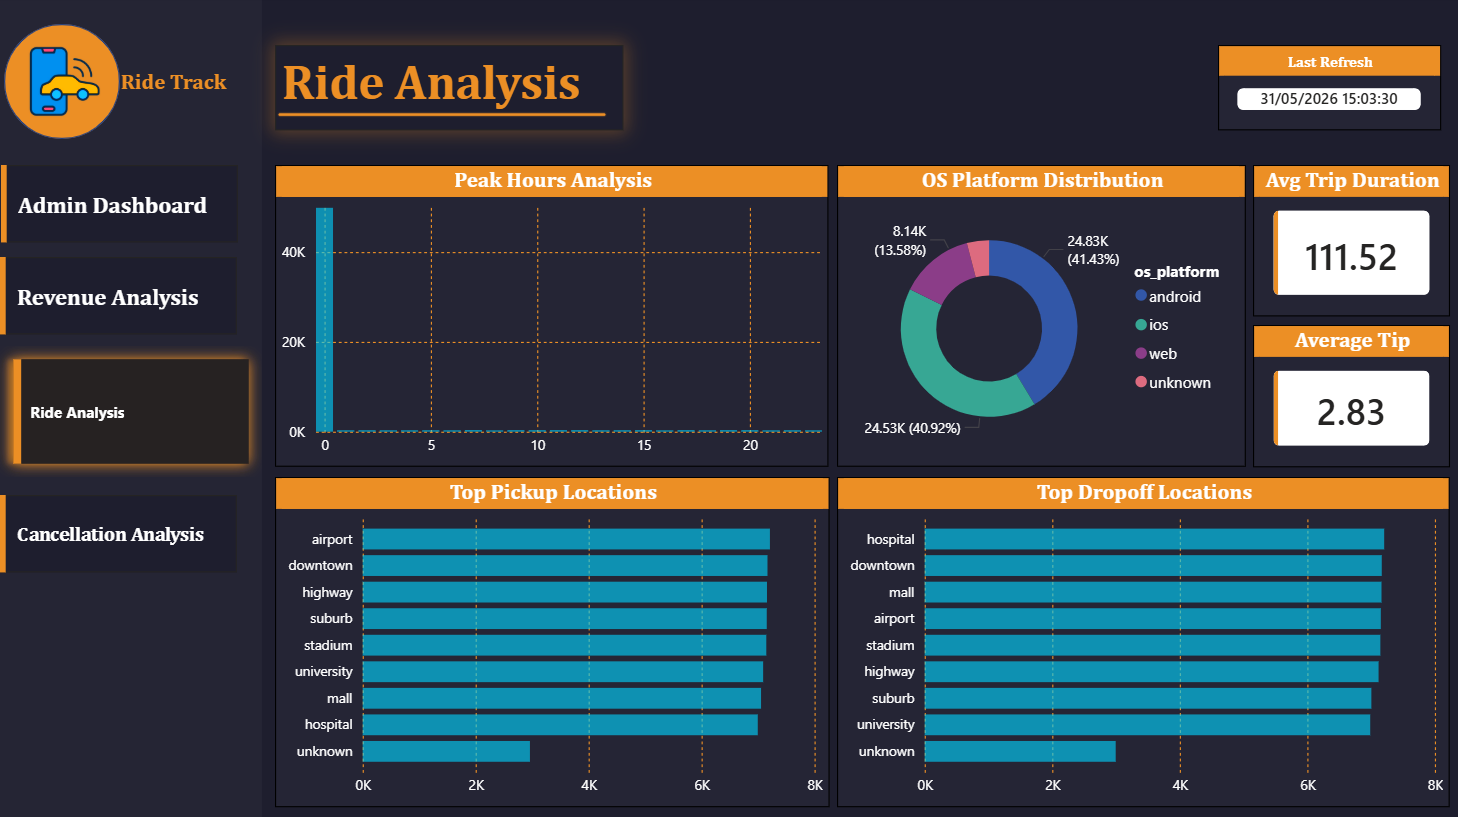

The page's visual inventory and layout, read from the dashboard file:
{"tool":"powerbi","page":{"name":"Ride Analysis","canvas":[1280,720],"ordinal":2},"visuals":[{"type":"shape","box":[0,0,230,720],"z":0,"group":"g4"},{"type":"textbox","box":[241.5,42.1,305.6,74.9],"z":0,"group":"g2"},{"type":"lineClusteredColumnComboChart","title":"Peak Hours Analysis","fields":{"Category":["gold_ridesharing.pickup_hour"],"Y":["CountNonNull(gold_ridesharing.trip_id)"]},"box":[241.5,147.5,486.4,265.2],"z":0},{"type":"shape","box":[243.3,96.3,289.8,13.3],"z":1000,"group":"g2"},{"type":"clusteredBarChart","title":"Top Pickup Locations","fields":{"Category":["gold_ridesharing.pickup_location"],"Y":["CountNonNull(gold_ridesharing.trip_id)"]},"box":[241.2,421.4,486.7,289.7],"z":1000},{"type":"textbox","box":[101,57.9,115,33.4],"z":2000,"group":"g3"},{"type":"clusteredBarChart","title":"Top Dropoff Locations","fields":{"Category":["gold_ridesharing.dropoff_location"],"Y":["CountNonNull(gold_ridesharing.trip_id)"]},"box":[735,421.4,538,289.7],"z":2000},{"type":"donutChart","title":"OS Platform Distribution","fields":{"Category":["gold_ridesharing.os_platform"],"Y":["CountNonNull(gold_ridesharing.trip_id)"]},"box":[734.9,147.5,359.1,265.2],"z":3000},{"type":"group","id":"g1","title":"Group 1","box":[0,0,230,720],"z":4000},{"type":"cardVisual","title":"Avg Trip Duration","fields":{"Data":["Avg(gold_ridesharing.trip_duration_mins)"]},"box":[1099.8,147.5,173.1,132.5],"z":5000},{"type":"cardVisual","title":"Average Tip","fields":{"Data":["Avg(gold_ridesharing.tip)"]},"box":[1099.8,288,173.1,124.6],"z":6000},{"type":"group","id":"g2","title":"Group 3","box":[241.5,42.1,305.6,74.6],"z":7000},{"type":"group","id":"g3","title":"Group 2","box":[3.5,23.7,212.5,101],"z":8000},{"type":"group","id":"g4","title":"Group 2","box":[0,0,230,720],"z":8001,"group":"g1"},{"type":"shape","box":[3.5,23.7,101.9,101],"z":9000,"group":"g3"},{"type":"cardVisual","title":"Last Refresh","fields":{"Data":["gold_ridesharing.Last Refresh"]},"box":[1069.5,42.1,195.8,74.6],"z":9000},{"type":"pageNavigator","box":[0,228.3,208,68],"z":10000,"group":"g4"},{"type":"image","box":[22.8,42.1,67.6,64.1],"z":11000,"group":"g3"},{"type":"pageNavigator","box":[0,437.3,208,68],"z":11000,"group":"g4"},{"type":"pageNavigator","box":[0,306.4,230,115],"z":12000,"group":"g4"},{"type":"pageNavigator","box":[0.8,147.5,208,68],"z":12500,"group":"g1"}]}

Visuals, with their boxes on the page's 1280x720 design canvas (x1, y1, x2, y2). These are canvas units, not pixel positions in the 1458x817 screenshot, which may show the page scaled, cropped or inside an application window:
shape: 0/0/230/720
textbox: 242/42/547/117
"Peak Hours Analysis" lineClusteredColumnComboChart: 242/148/728/413
shape: 243/96/533/110
"Top Pickup Locations" clusteredBarChart: 241/421/728/711
textbox: 101/58/216/91
"Top Dropoff Locations" clusteredBarChart: 735/421/1273/711
"OS Platform Distribution" donutChart: 735/148/1094/413
"Group 1" group: 0/0/230/720
"Avg Trip Duration" cardVisual: 1100/148/1273/280
"Average Tip" cardVisual: 1100/288/1273/413
"Group 3" group: 242/42/547/117
"Group 2" group: 4/24/216/125
"Group 2" group: 0/0/230/720
shape: 4/24/105/125
"Last Refresh" cardVisual: 1070/42/1265/117
pageNavigator: 0/228/208/296
image: 23/42/90/106
pageNavigator: 0/437/208/505
pageNavigator: 0/306/230/421
pageNavigator: 1/148/209/216
